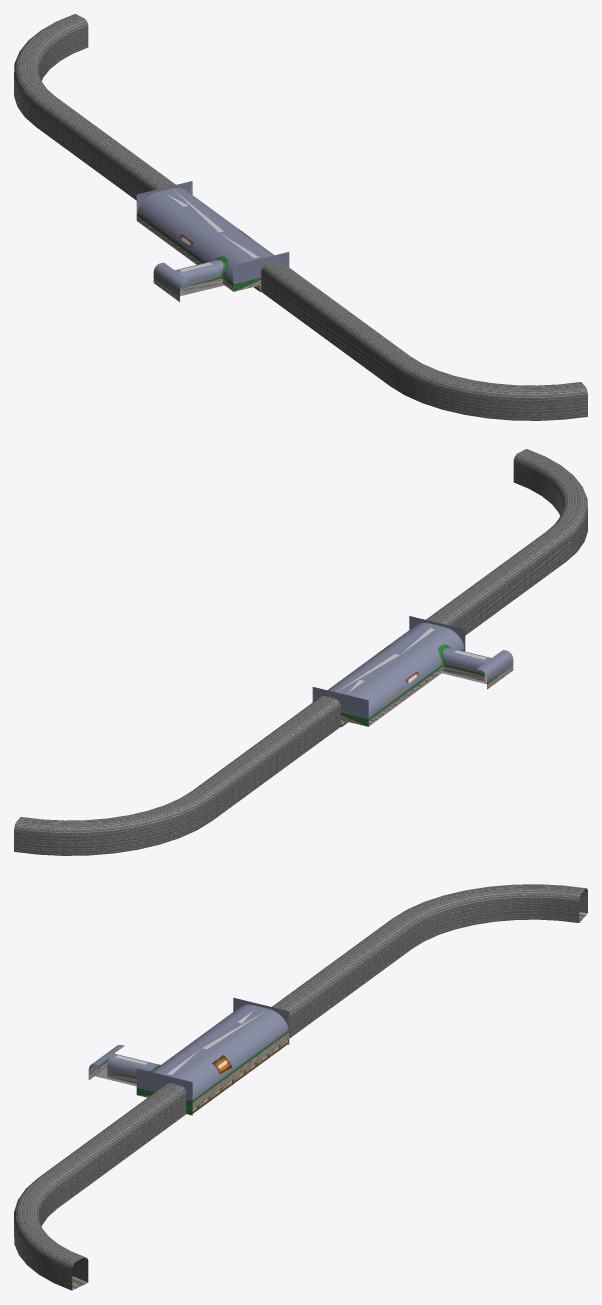
Rendered from ENVI_Subway.obj.
3 views of the same model, one above another, from view 1: azimuth 30°, elevation 25°; view 2: azimuth 150°, elevation 25°; view 3: azimuth 330°, elevation 25° (orthographic).
Parts seen in each view (by area): view 1: Subway; view 2: Subway; view 3: Subway.
Part boxes in pixels (box(x1,y1,x2,y2)): Subway: box(14, 14, 587, 420); Subway: box(14, 449, 587, 855); Subway: box(14, 884, 587, 1290).
Size of what is drawn, in the model's own units: 1965 by 315 by 8795.
19 materials, 17 textured.
